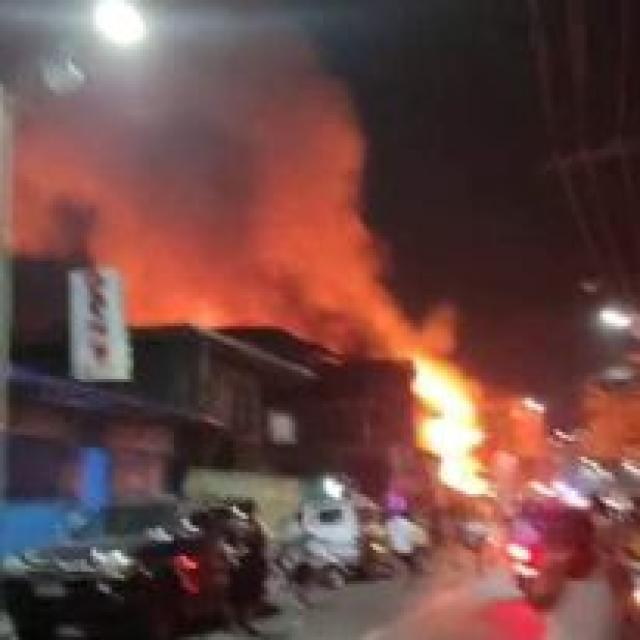Fire: (386, 320, 508, 502)
Smoke: (68, 46, 402, 338)
